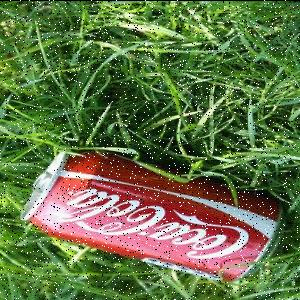Can: (22, 149, 290, 283)
